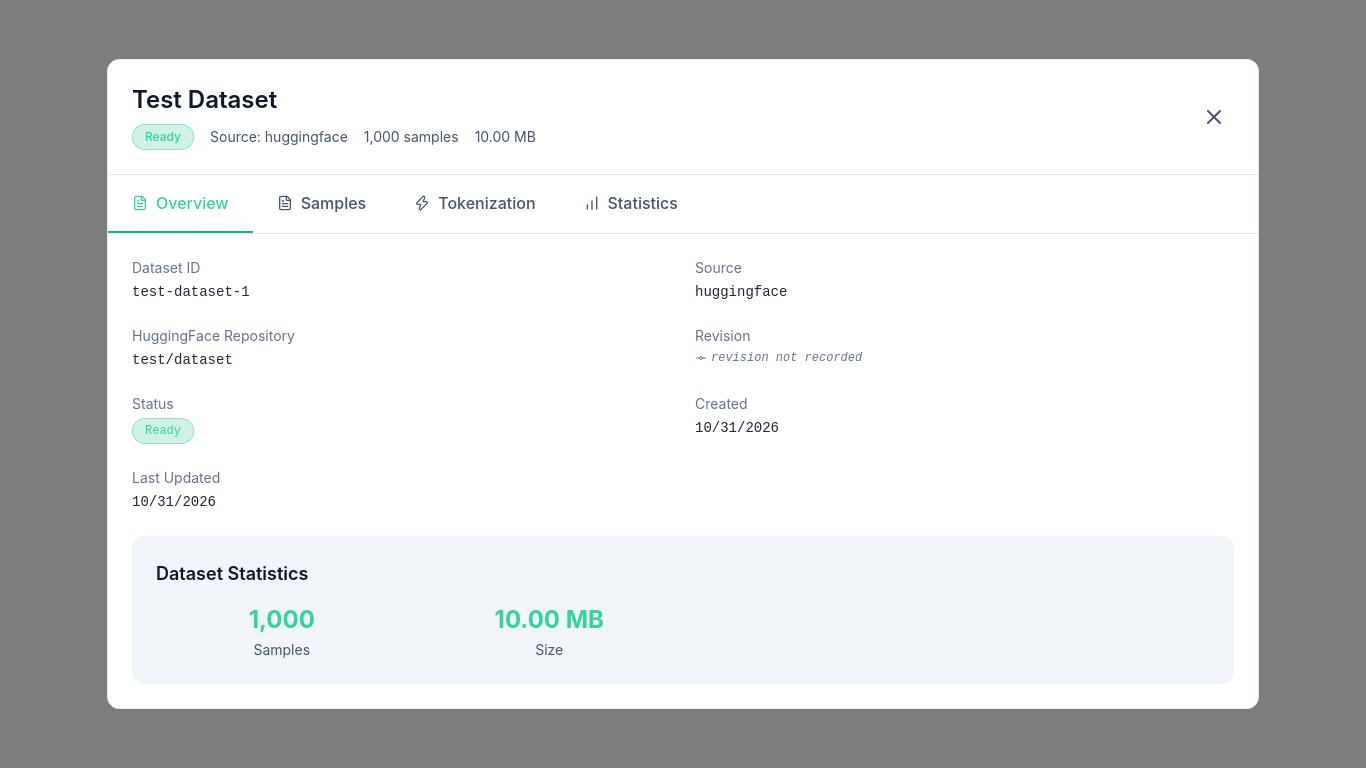
Test: DatasetDetailModal › Tab Content Rendering › should render Samples tab content when selected
Click the button "Samples" at (321, 204), box [253,175,390,233]
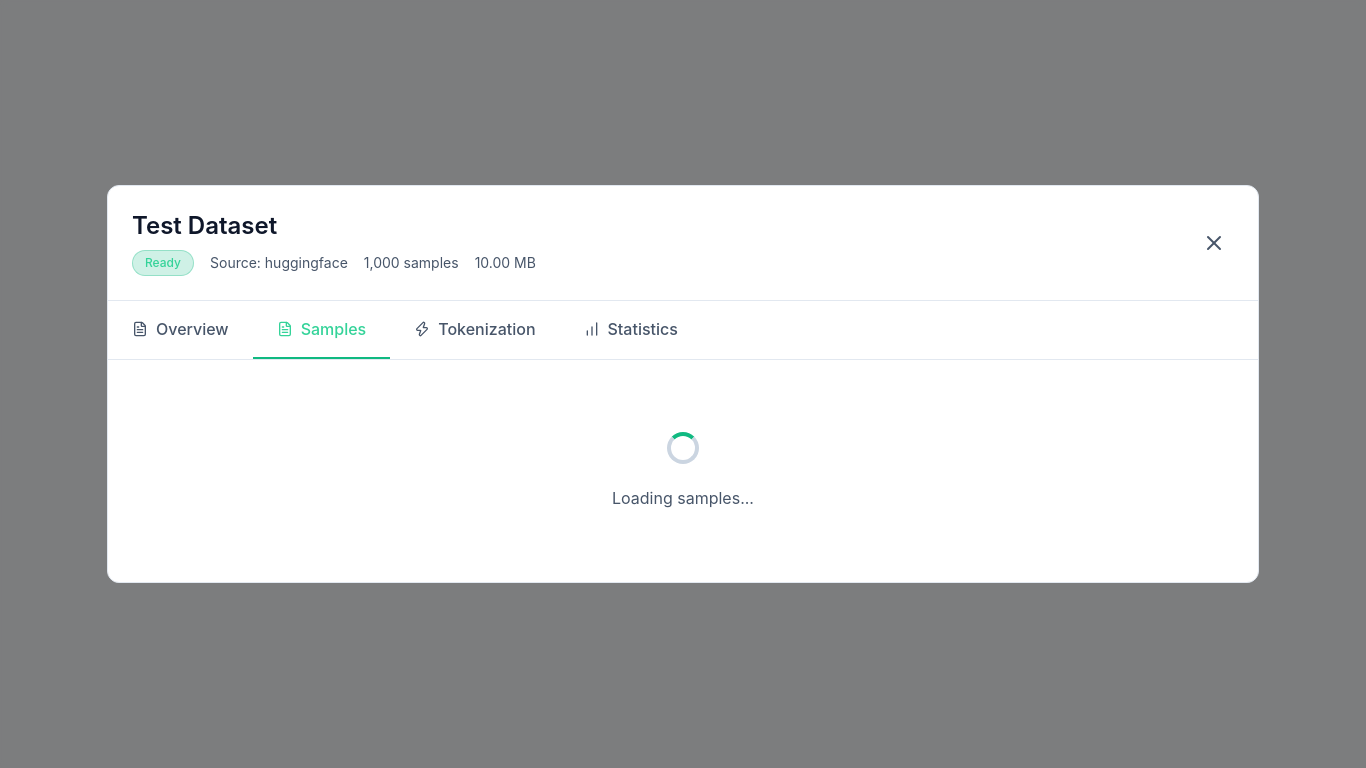
expect the text "Loading samples..." is shown: met, box [612,488,754,508]
